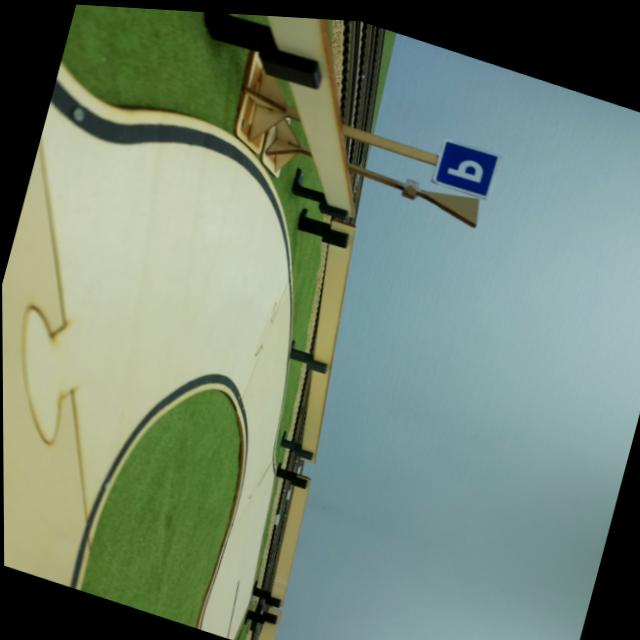panneau_parking: (429, 137, 498, 193)
